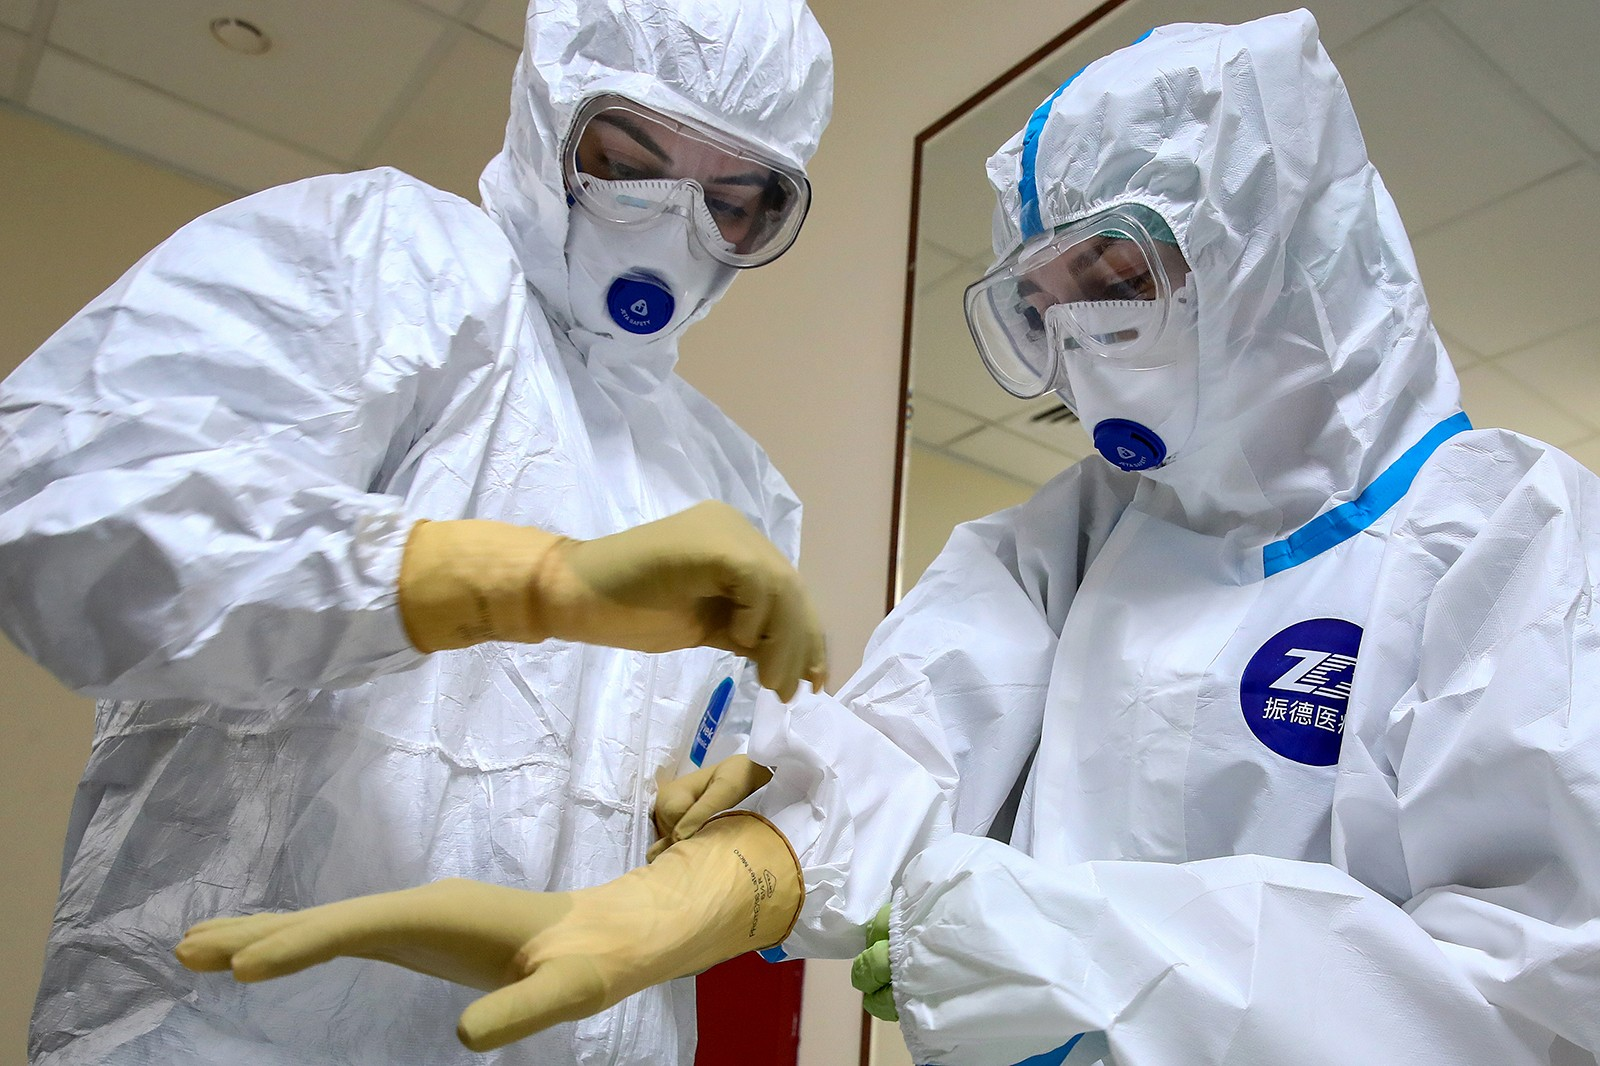Coverall: (741, 8, 1600, 1066), (1, 2, 844, 1066)
Gloves: (172, 807, 810, 1055), (398, 496, 832, 710), (649, 741, 774, 840)
Goggles: (570, 93, 812, 271), (955, 208, 1175, 405)
with_mask: (1010, 269, 1199, 474), (567, 150, 744, 355)
